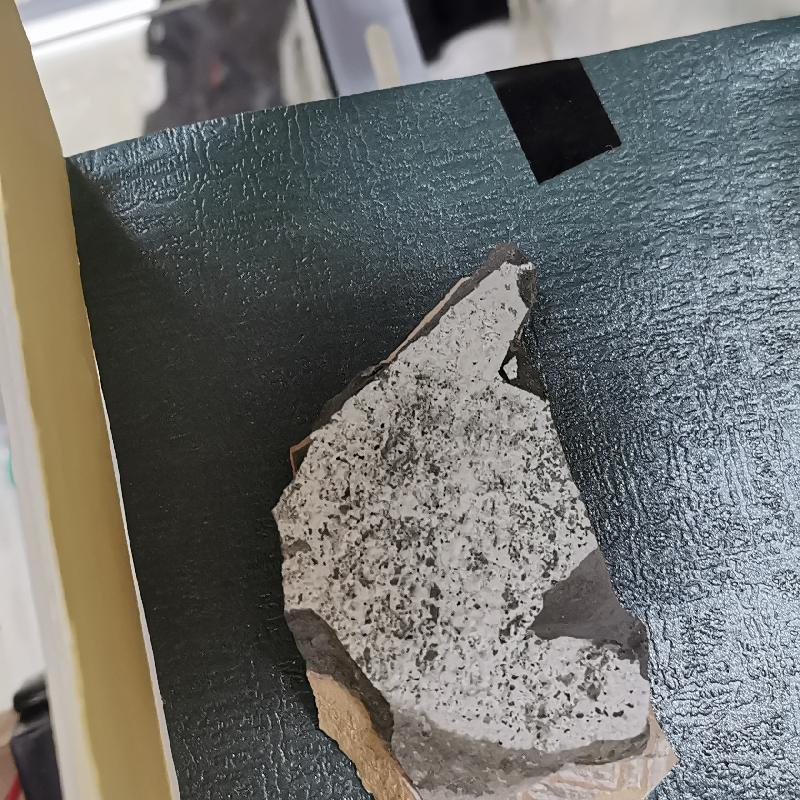tile: (259, 239, 694, 800)
